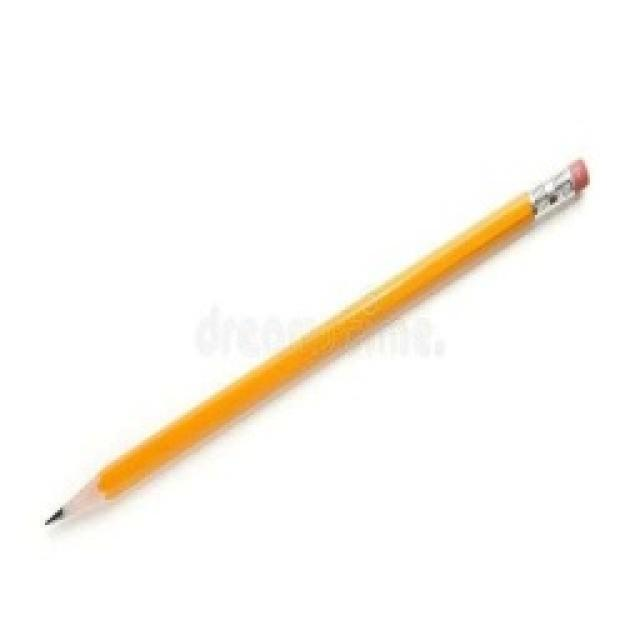pencil: (40, 152, 592, 530)
